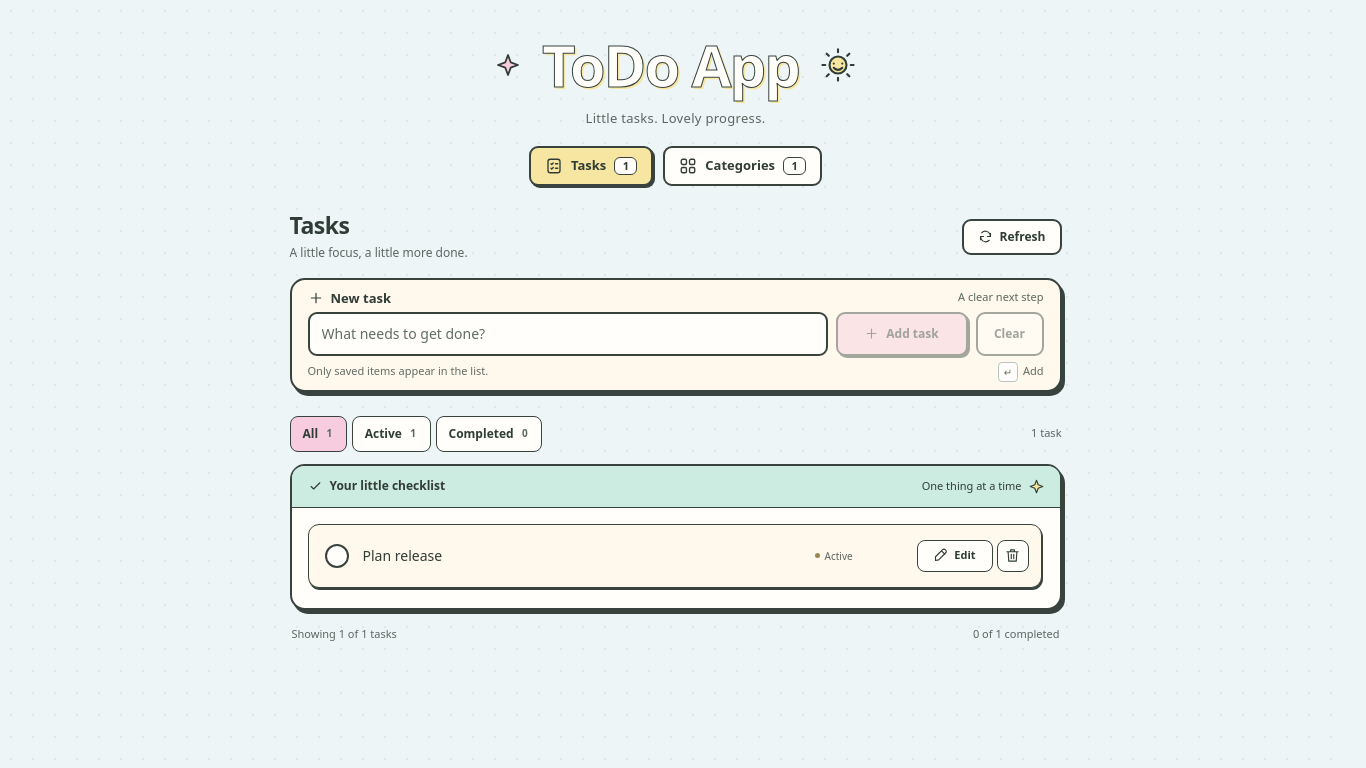
Test: stable client order with unordered UUID task responses › deleting the final task focuses the list region rather than opening the editor
The image size is (1366, 768).
Check: the text "Plan release" is shown, box [362, 546, 442, 565]
Click the button named "Delete task “Plan release”" at (1012, 556), box [996, 540, 1028, 572]
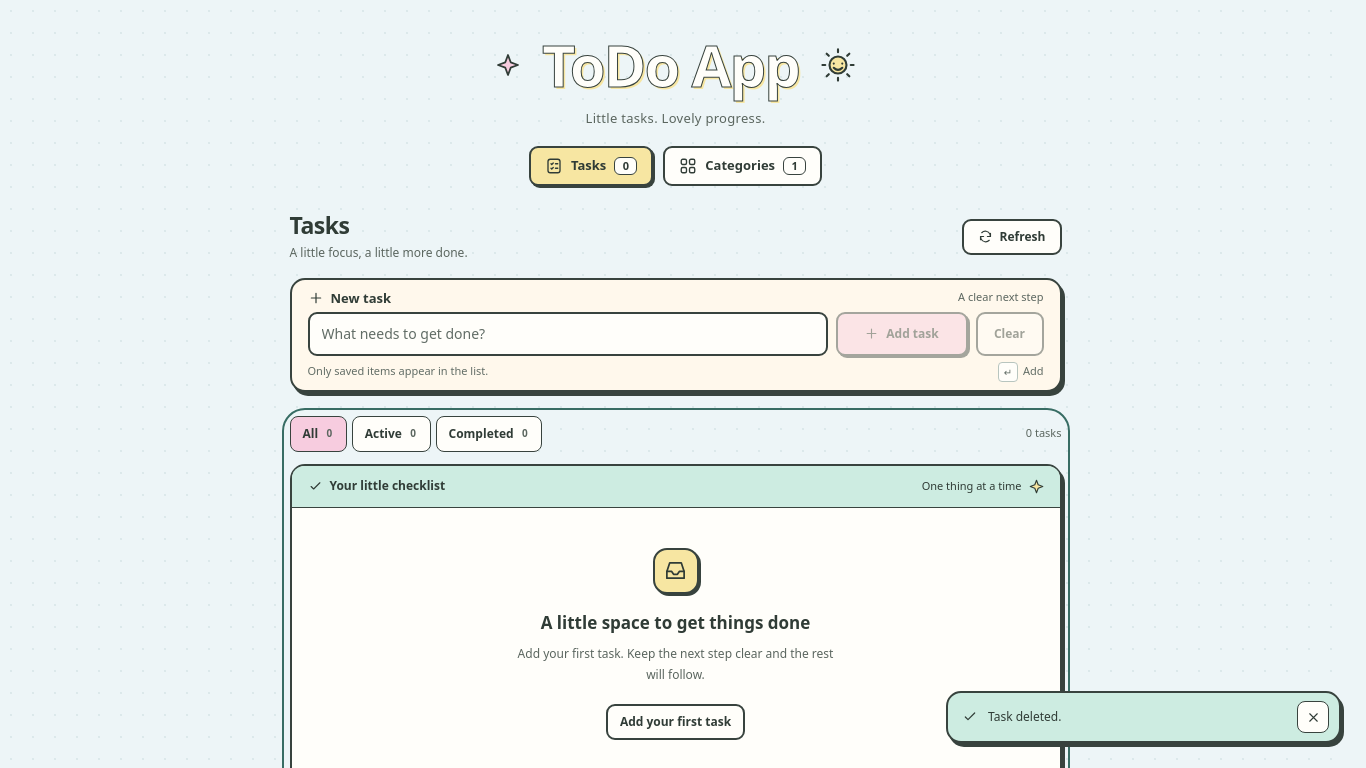
Check: the text "Task deleted." is shown, box [988, 708, 1061, 725]
Check: the heading "A little space to get things done" is shown, box [541, 610, 810, 635]
